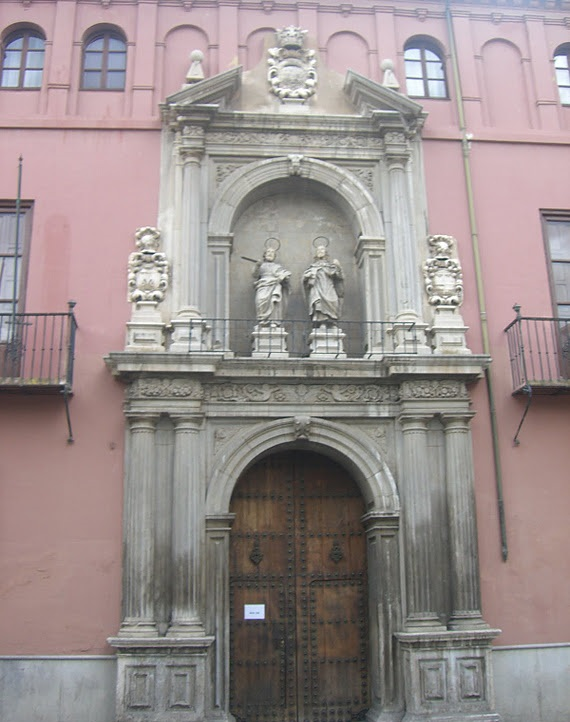arco-medio-punto: (218, 432, 385, 552), (220, 170, 375, 269)
fronton-partido: (161, 62, 431, 126)
